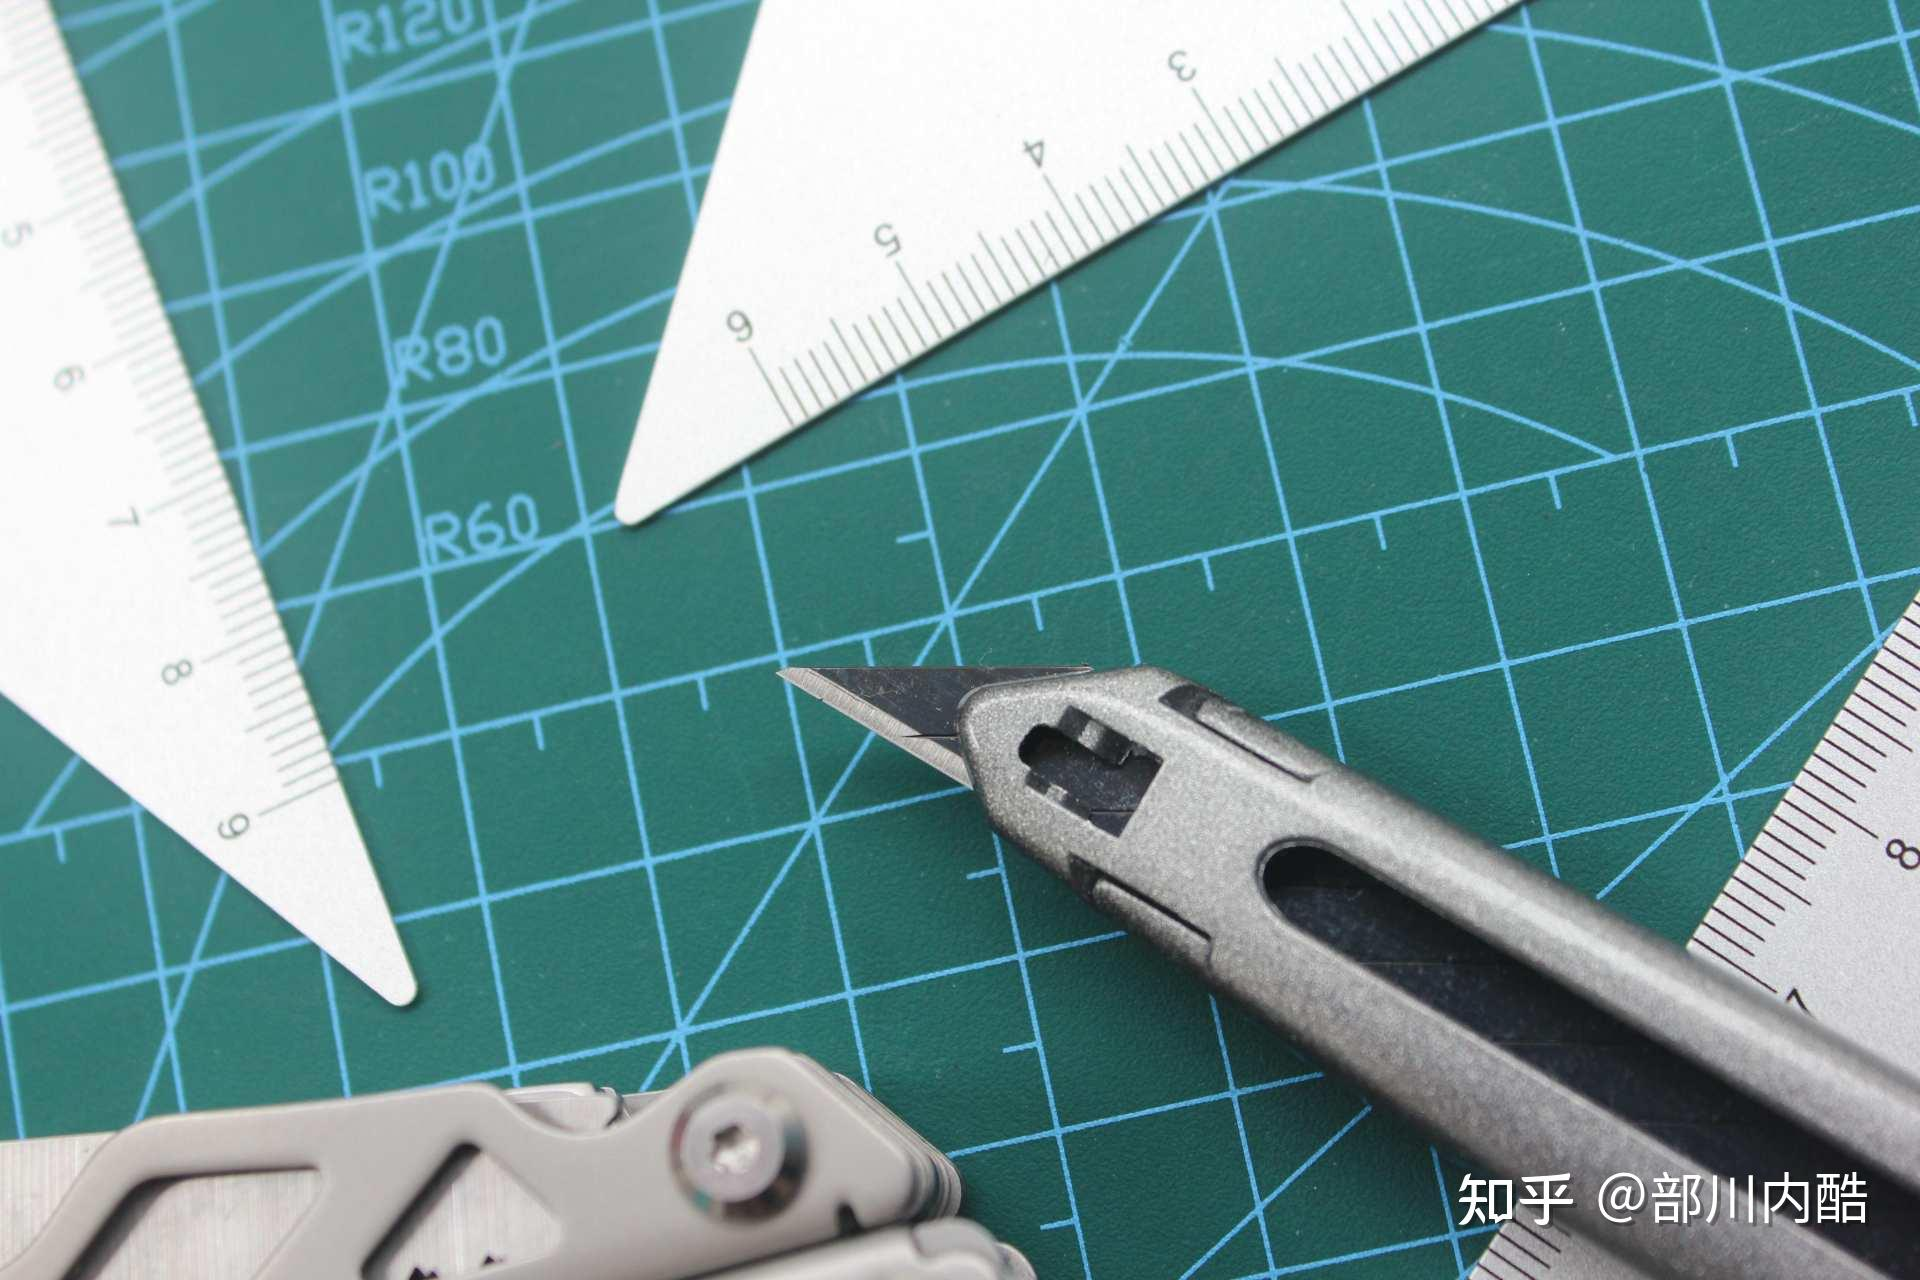cutter: (769, 656, 1920, 1273)
